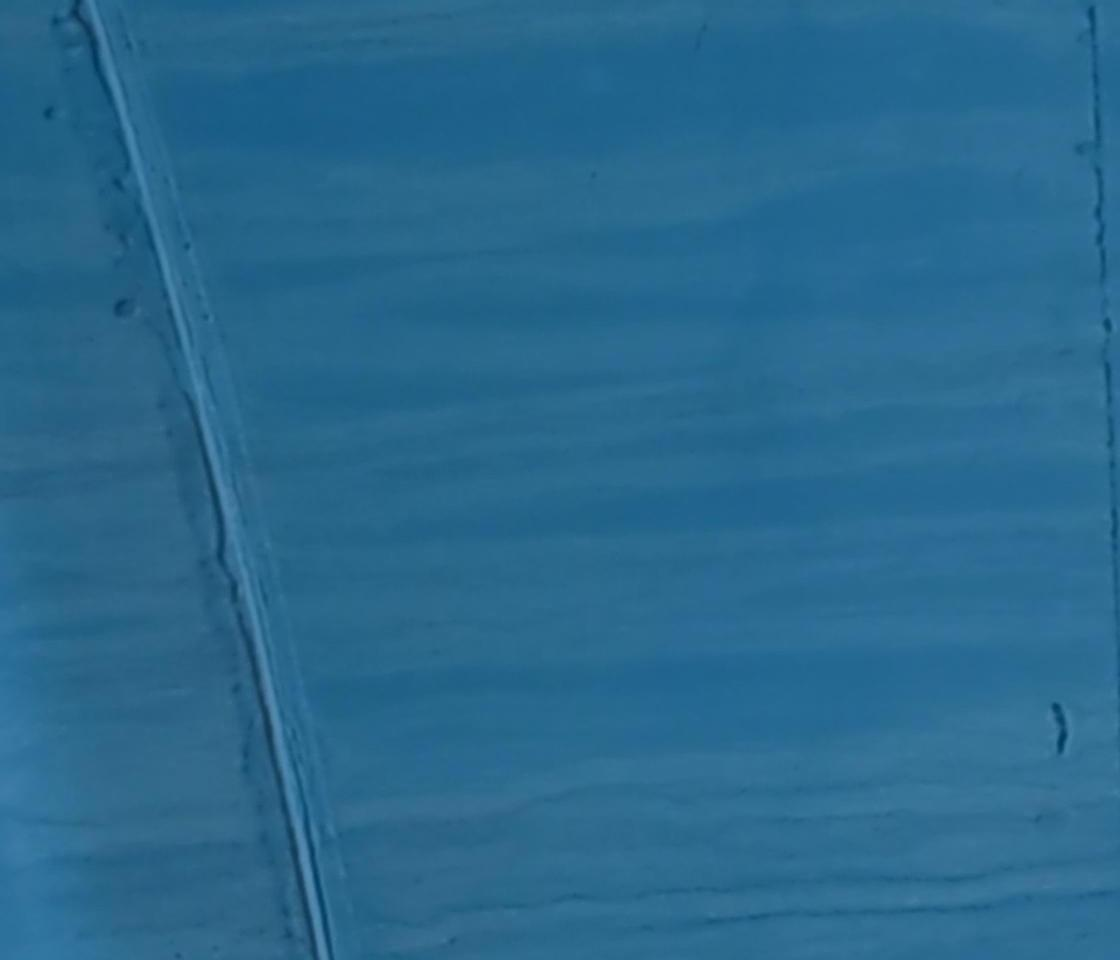scratch: (1044, 696, 1075, 762)
